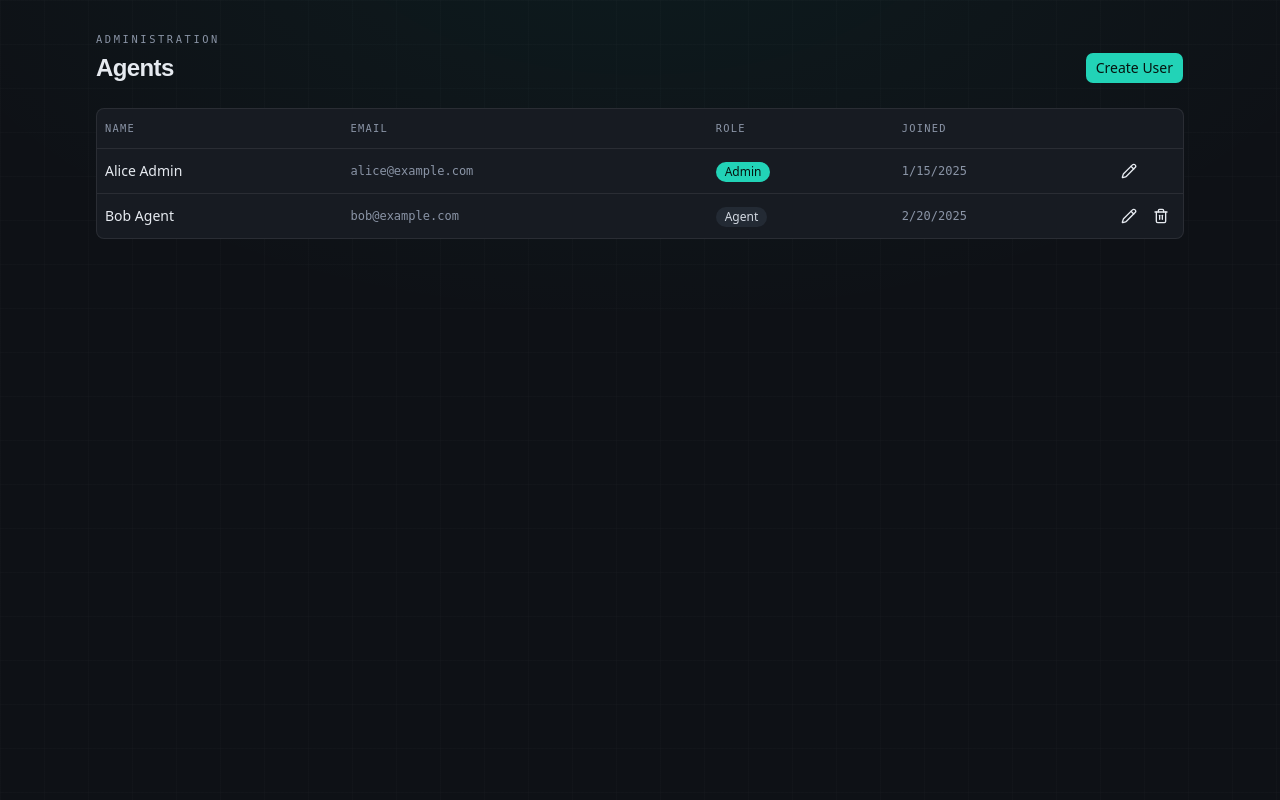
Test: UsersPage › closes create user dialog when pressing Escape
This screenshot has width=1280, height=800.
Step 1. Click the button "Create User" → (1134, 68), box [1085,52,1184,84]
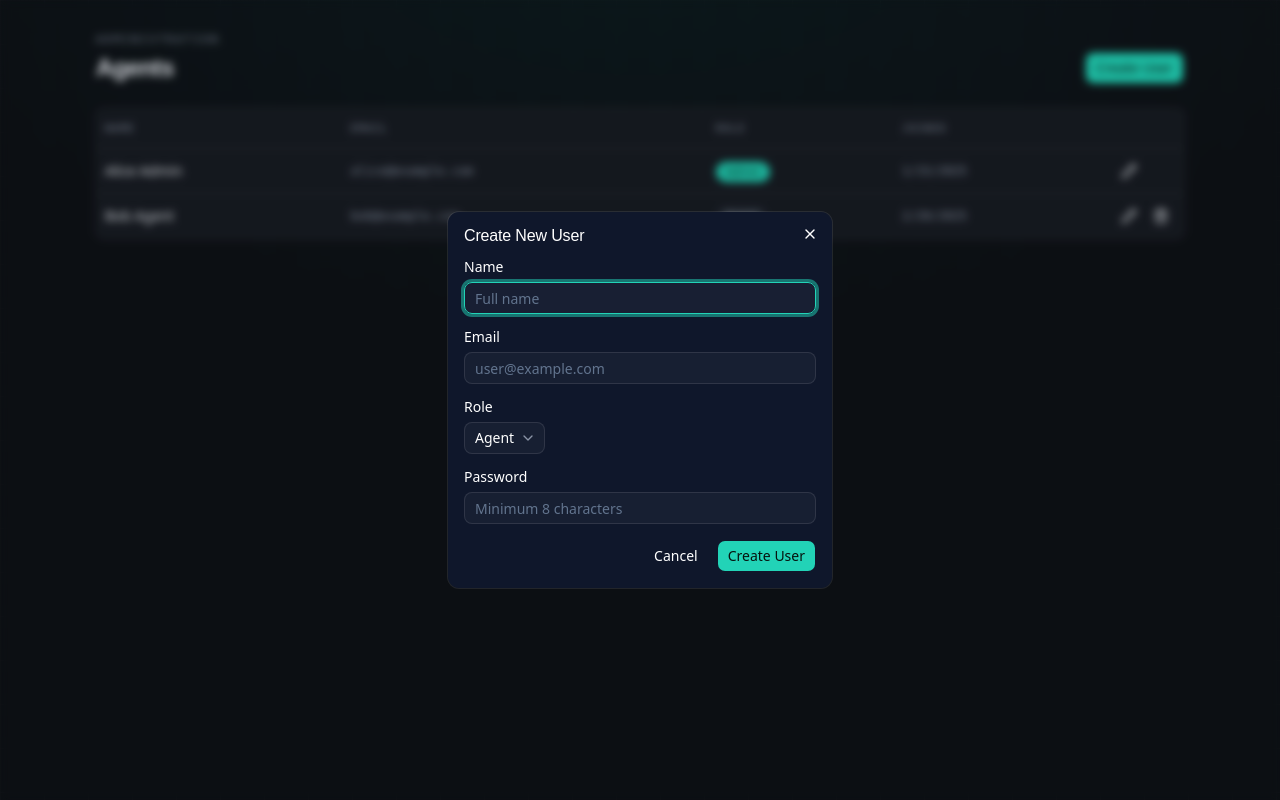
Result: the dialog is shown at [448,212,832,588]
Step 2. Press Escape
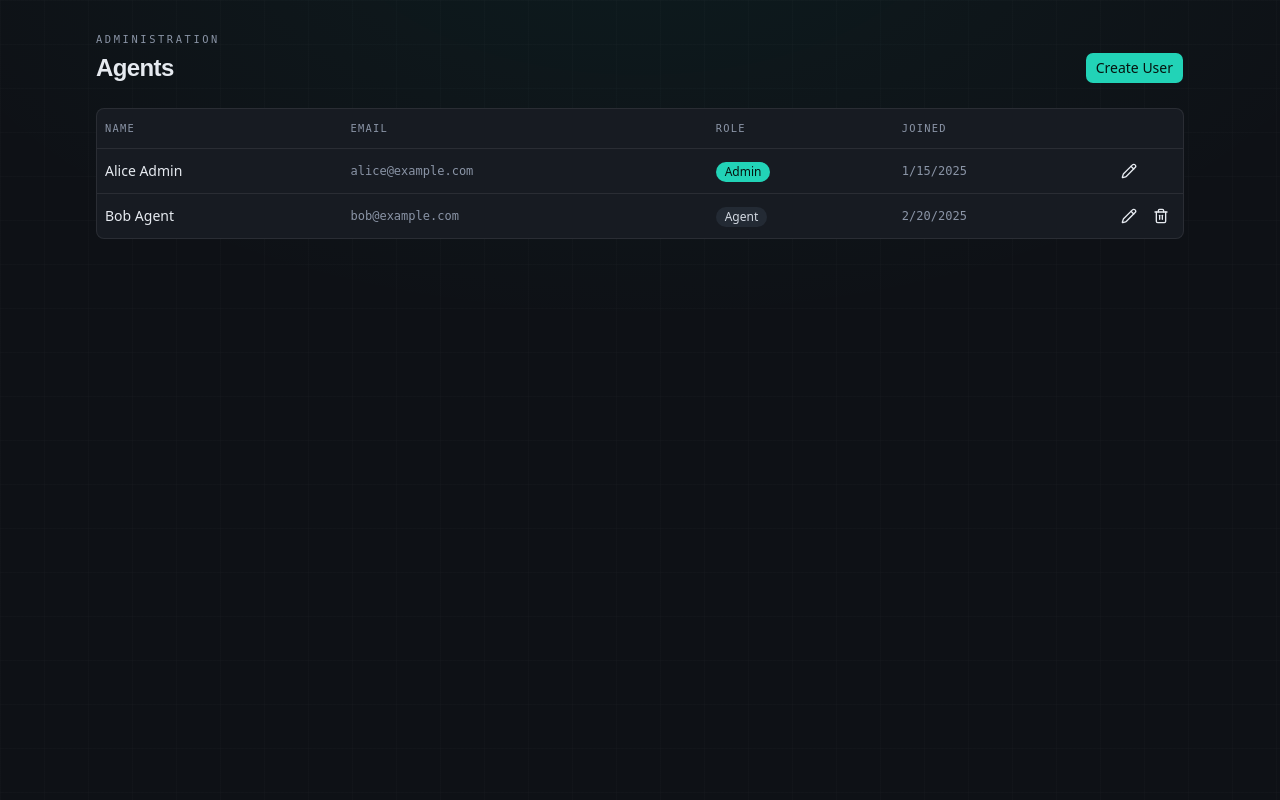
Result: the dialog is gone
